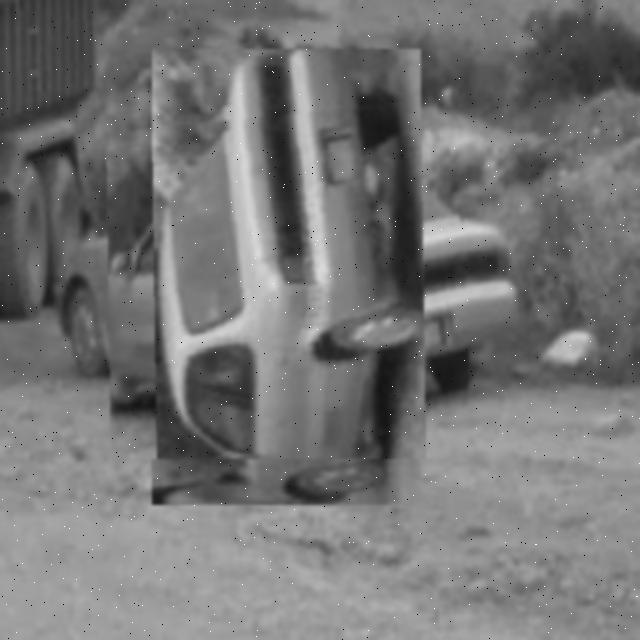car: (107, 96, 469, 460)
